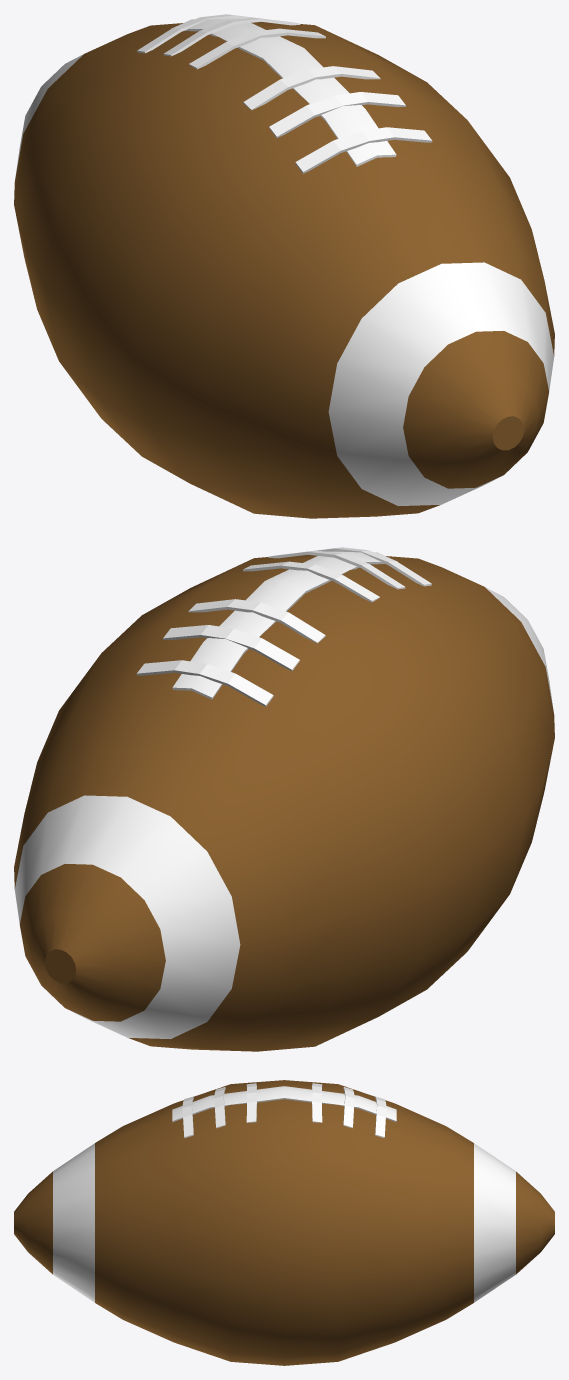
File: Rugby Ball.fbx
3 renders of one model, top to bottom at view 1: azimuth 30°, elevation 25°; view 2: azimuth 150°, elevation 25°; view 3: azimuth 270°, elevation 25°, orthographic. The views are drawn at different scales.
Parts seen in each view (by area): view 1: Rugby Ball; view 2: Rugby Ball; view 3: Rugby Ball.
Part boxes in pixels (box(x1,y1,x2,y2)): Rugby Ball: box(14, 14, 554, 518); Rugby Ball: box(14, 547, 554, 1051); Rugby Ball: box(14, 1080, 554, 1365).
Size of the model in its own units: 0.1116 by 0.1153 by 0.2147.
